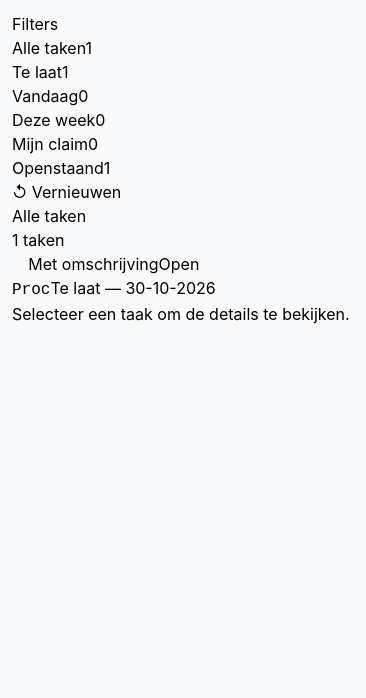
Test: TakenInbox task rows and detail pane › shows the description and the deadline in the detail pane
Step 1. Click the text "Met omschrijving" → (93, 264), box [28,254,158,274]
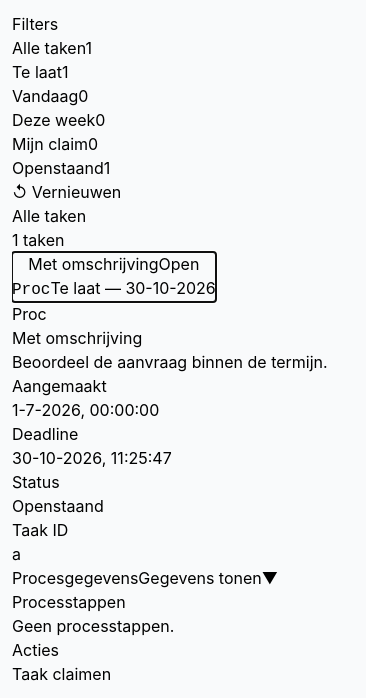
Result: the text "Beoordeel de aanvraag binnen de termijn." is shown at [12,352,328,372]
Result: the text "Deadline" is shown at [12,424,78,444]
Result: the text "30-10-2026, 11:25:47" is shown at [12,448,172,468]
